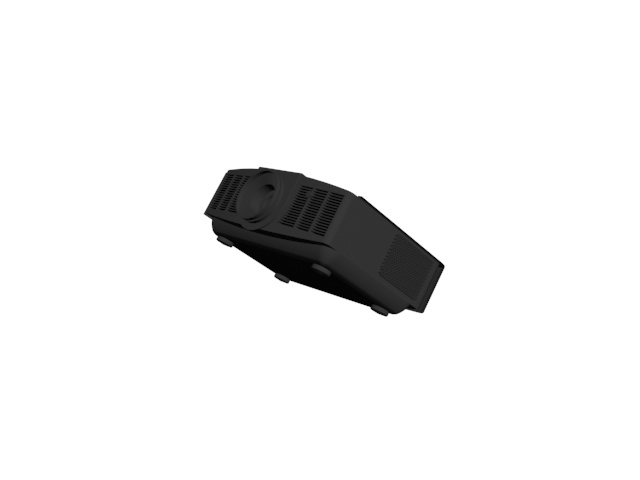projector: (201, 161, 448, 320)
